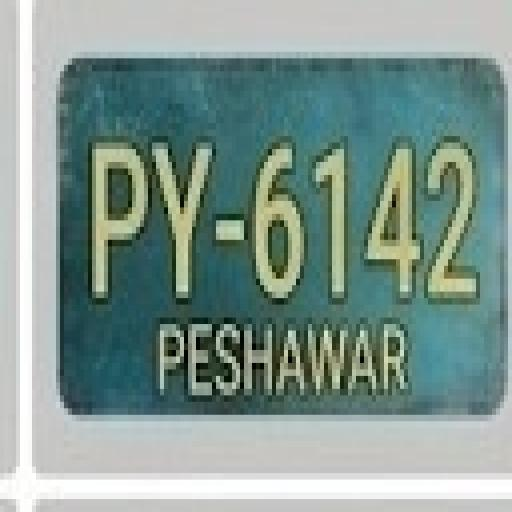1: (312, 134, 352, 315)
2: (425, 135, 484, 314)
4: (364, 130, 419, 316)
6: (244, 137, 306, 316)
P: (81, 133, 148, 303)
Y: (152, 128, 212, 308)
